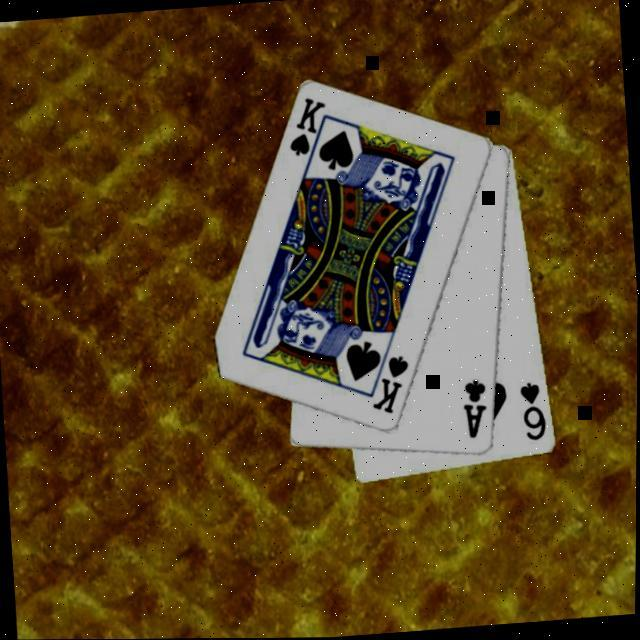6S: (517, 378, 549, 443)
AC: (458, 376, 490, 441)
KS: (282, 94, 333, 168), (366, 352, 414, 416)
